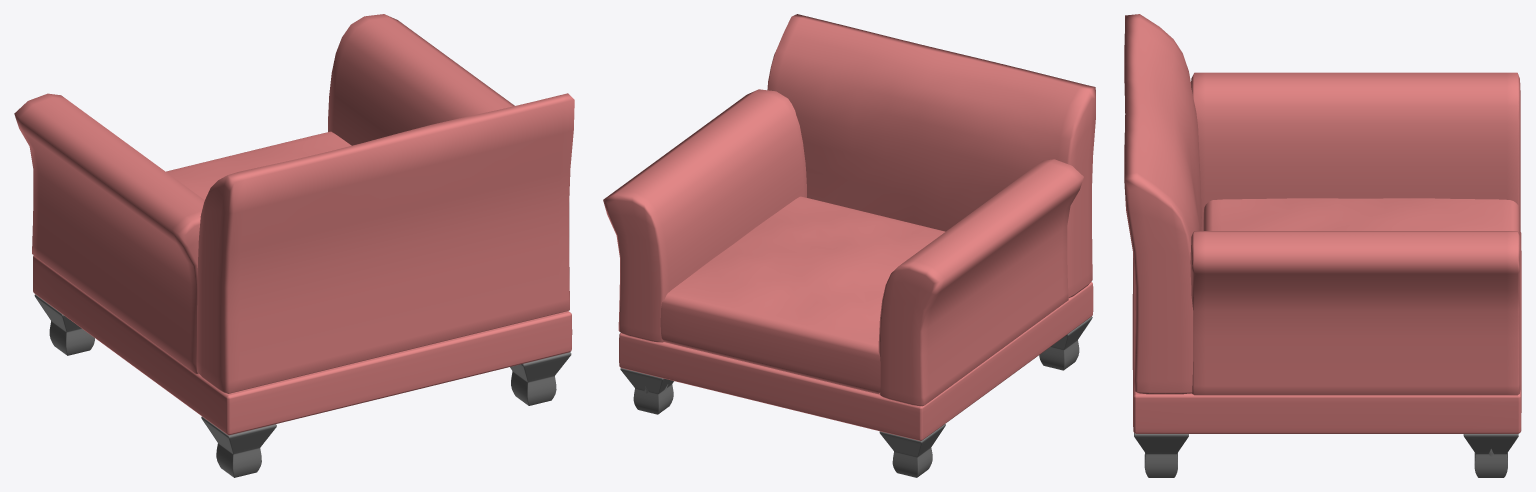
File: Sofa_1.fbx
The picture shows the model from 3 angles, left to right: view 1: azimuth 30°, elevation 25°; view 2: azimuth 150°, elevation 25°; view 3: azimuth 270°, elevation 25°; orthographic projection. The views are drawn at different scales.
Visible parts, largest first — view 1: pCube2, pCube4, pCube5, pCube3, pCube1, pCube10, pCube9, pCube8; view 2: pCube2, pCube1, pCube4, pCube3, pCube5, pCube8, pCube7, pCube10; view 3: pCube3, pCube4, pCube2, pCube5, pCube1, pCube9, pCube7.
Boxes of the visible parts, box(x1,y1,x2,y2) form: pCube2: box(197, 93, 574, 393); pCube4: box(14, 93, 204, 374); pCube5: box(33, 255, 572, 435); pCube3: box(328, 14, 514, 145); pCube1: box(166, 131, 351, 199); pCube10: box(201, 416, 276, 477); pCube9: box(510, 352, 571, 405); pCube8: box(34, 294, 94, 355); pCube2: box(767, 14, 1095, 298); pCube1: box(660, 196, 945, 394); pCube4: box(878, 159, 1083, 406); pCube3: box(603, 89, 806, 342); pCube5: box(619, 282, 1093, 440); pCube8: box(879, 424, 945, 477); pCube7: box(620, 368, 673, 414); pCube10: box(1039, 316, 1092, 370); pCube3: box(1190, 231, 1520, 395); pCube4: box(1191, 72, 1520, 242); pCube2: box(1124, 14, 1201, 394); pCube5: box(1132, 232, 1521, 433); pCube1: box(1203, 198, 1520, 237); pCube9: box(1134, 433, 1188, 477); pCube7: box(1463, 434, 1518, 477).
Size of the model in its own units: 5.44 by 4.19 by 4.94.
